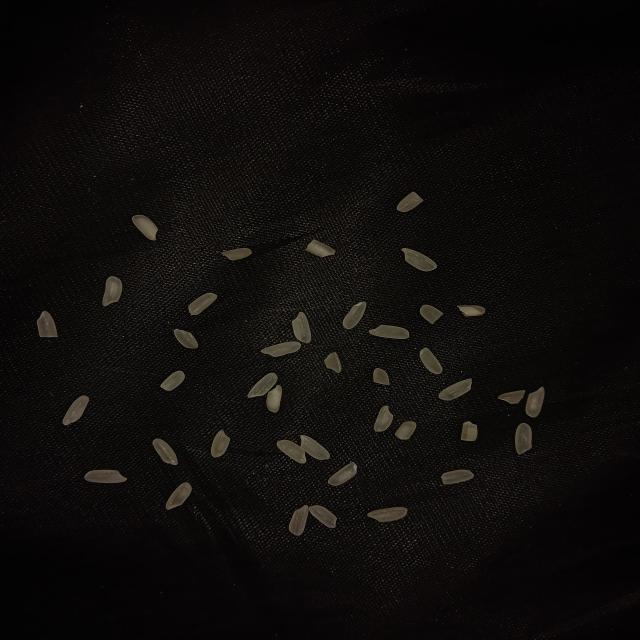Broken: (188, 293, 218, 316), (419, 348, 443, 374), (304, 239, 336, 258), (396, 192, 425, 212), (441, 468, 474, 485), (374, 405, 394, 433), (37, 311, 58, 337), (173, 329, 199, 349), (161, 371, 185, 391), (419, 305, 444, 324), (220, 247, 253, 261), (394, 421, 417, 440), (324, 352, 342, 373), (499, 390, 527, 403), (461, 421, 478, 442), (457, 304, 486, 316), (373, 368, 390, 385)
Full: (401, 248, 438, 271), (63, 396, 90, 426), (438, 378, 472, 401), (276, 440, 308, 464), (300, 435, 330, 460), (247, 373, 278, 397), (152, 438, 178, 466), (328, 462, 358, 486), (288, 504, 310, 536), (132, 215, 159, 241), (166, 482, 191, 510), (342, 302, 367, 330), (308, 505, 338, 528), (367, 507, 409, 523), (84, 469, 127, 484), (292, 312, 312, 344), (260, 341, 300, 357), (102, 276, 122, 306), (515, 422, 533, 455), (210, 429, 230, 458), (368, 325, 409, 339), (525, 387, 544, 417), (266, 386, 283, 414)
